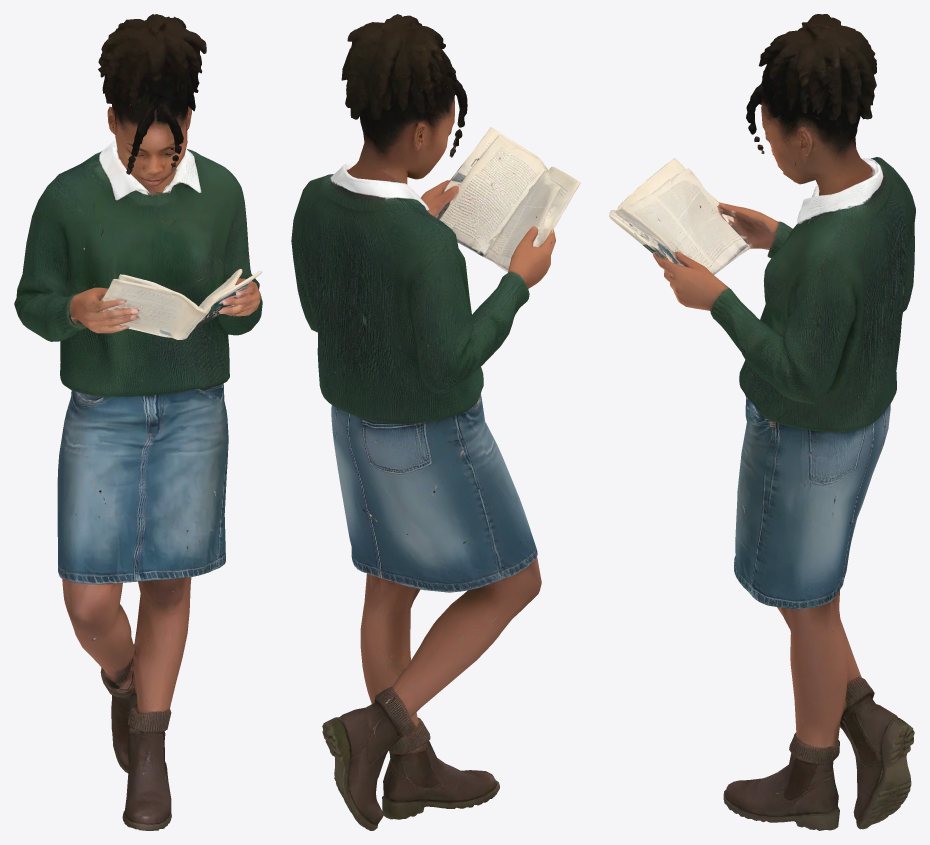
File: ethics-student.glb
3 views of the same model, side by side, from view 1: azimuth 30°, elevation 25°; view 2: azimuth 150°, elevation 25°; view 3: azimuth 270°, elevation 25° (orthographic). The views are drawn at different scales.
Visible parts, largest first — view 1: mesh_0; view 2: mesh_0; view 3: mesh_0.
Part boxes in pixels (left/top/right/bottom): mesh_0: left=14, top=14, right=262, bottom=830; mesh_0: left=291, top=14, right=580, bottom=830; mesh_0: left=609, top=14, right=915, bottom=830.
Bounding box in the file's own units: 0.5352 × 1.9 × 0.655.
1 material, 1 textured.
